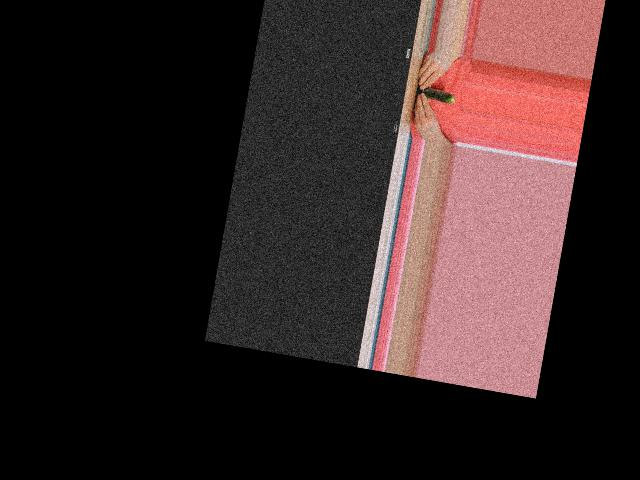cucumber: (415, 86, 455, 105)
